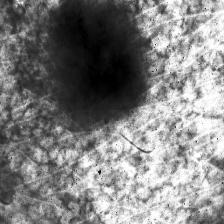Benign Marking or Mole: (59, 7, 141, 119)
